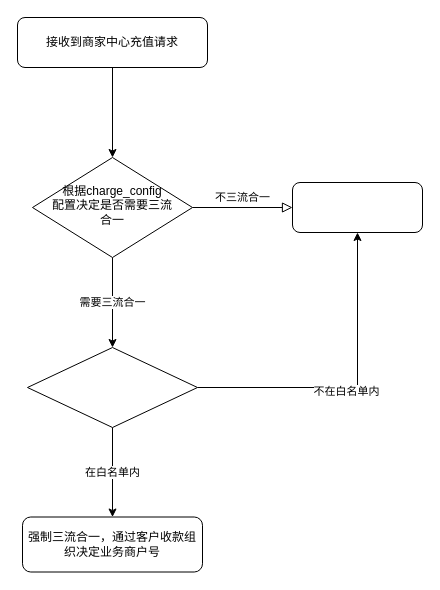
This 440x590 diagram has some shape labels left out. The shapes that lost their labels are listed below. From the top down, each one's centre as x and y in pixels, then its label:
[357,207]: 根据旧逻辑，通过服务类别确定业务商户号
[112,387]: 根据客户号查询CRM接口，是否在白名单内
